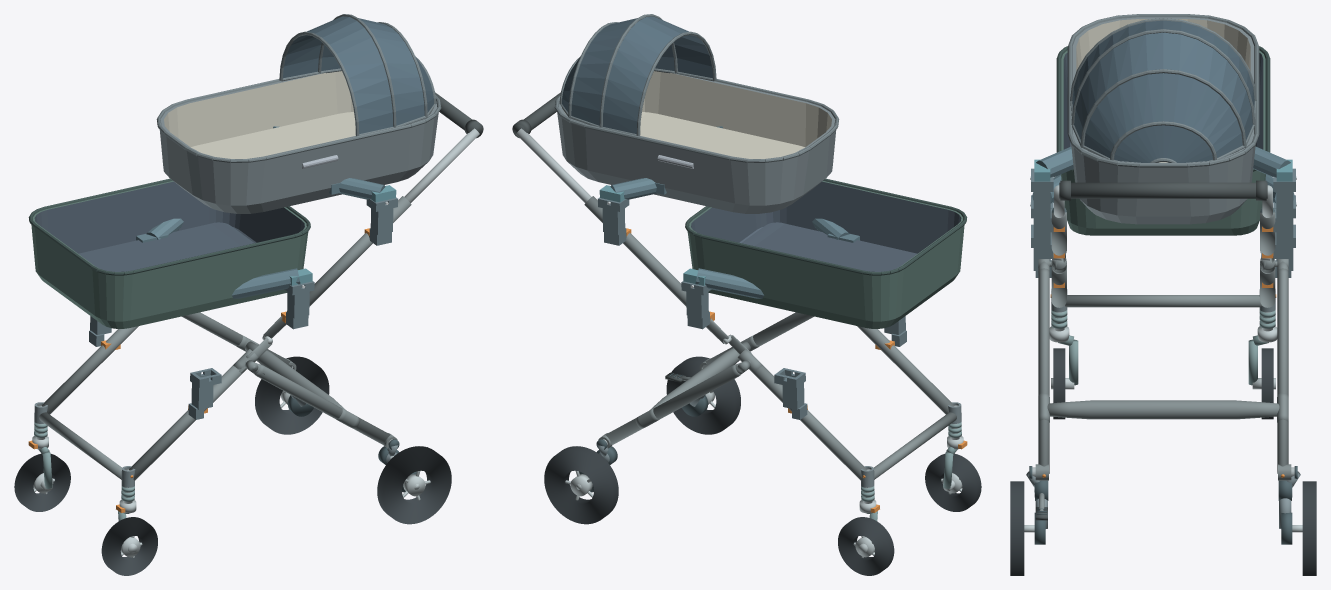
Rendered from D09_w550_state1_wheel_S.glb.
3 renders of one model, left to right at view 1: azimuth 30°, elevation 25°; view 2: azimuth 150°, elevation 25°; view 3: azimuth 270°, elevation 25°, orthographic. The views are drawn at different scales.
Parts seen in each view (by area): view 1: D09_Upper, D09_Lower, RL_tire.002, RR_tire.002, FL_tire.002, FR_tire.002, D09_Lower_Mount_M, V46_rear_leg_-1.003, main_lower_-1.003, main_lower_1.003, main_upper_-1.003, Universal_Cabin_Receiver_L_-1 (+7 smaller); view 2: D09_Upper, D09_Lower, RR_tire.002, RL_tire.002, FR_tire.002, FL_tire.002, D09_Lower_Mount_M, V46_rear_leg_1.003, main_lower_1.003, main_lower_-1.003, main_upper_1.003, Universal_Cabin_Receiver_L_1 (+7 smaller); view 3: D09_Upper, D09_Lower, V46_rearbar.003, round_handle.002, front_fixed_round_tube.002, V46_rear_leg_1.003, V46_rear_leg_-1.003, D09_Upper_Mount_H, RL_tire.002, RR_tire.002, Universal_Cabin_Receiver_H_1, Universal_Cabin_Receiver_H_-1 (+10 smaller).
Part boxes in pixels (<box>): D09_Upper: <box>156,14,441,213</box>; D09_Lower: <box>28,178,310,328</box>; RL_tire.002: <box>377,446,451,524</box>; RR_tire.002: <box>255,356,329,434</box>; FL_tire.002: <box>101,517,157,575</box>; FR_tire.002: <box>14,453,70,511</box>; D09_Lower_Mount_M: <box>136,218,312,298</box>; V46_rear_leg_-1.003: <box>254,364,390,445</box>; main_lower_-1.003: <box>129,365,245,480</box>; main_lower_1.003: <box>41,326,138,414</box>; main_upper_-1.003: <box>309,196,411,306</box>; Universal_Cabin_Receiver_L_-1: <box>188,368,221,419</box>; D09_Upper: <box>554,14,839,213</box>; D09_Lower: <box>685,178,967,328</box>; RR_tire.002: <box>544,446,618,524</box>; RL_tire.002: <box>666,356,740,434</box>; FR_tire.002: <box>838,517,894,575</box>; FL_tire.002: <box>925,453,981,511</box>; D09_Lower_Mount_M: <box>683,218,859,298</box>; V46_rear_leg_1.003: <box>605,364,741,445</box>; main_lower_1.003: <box>750,365,866,480</box>; main_lower_-1.003: <box>857,326,954,414</box>; main_upper_1.003: <box>584,196,686,306</box>; Universal_Cabin_Receiver_L_1: <box>774,368,807,419</box>; D09_Upper: <box>1067,14,1259,224</box>; D09_Lower: <box>1056,46,1270,235</box>; V46_rearbar.003: <box>1047,400,1279,419</box>; round_handle.002: <box>1059,182,1267,198</box>; front_fixed_round_tube.002: <box>1065,295,1261,307</box>; V46_rear_leg_1.003: <box>1277,268,1288,473</box>; V46_rear_leg_-1.003: <box>1038,268,1049,473</box>; D09_Upper_Mount_H: <box>1030,146,1296,181</box>; RL_tire.002: <box>1010,481,1024,575</box>; RR_tire.002: <box>1302,481,1316,575</box>; Universal_Cabin_Receiver_H_1: <box>1273,168,1295,232</box>; Universal_Cabin_Receiver_H_-1: <box>1031,168,1053,232</box>.
Bounding box in the file's own units: 1.11 × 1.27 × 0.6471.
